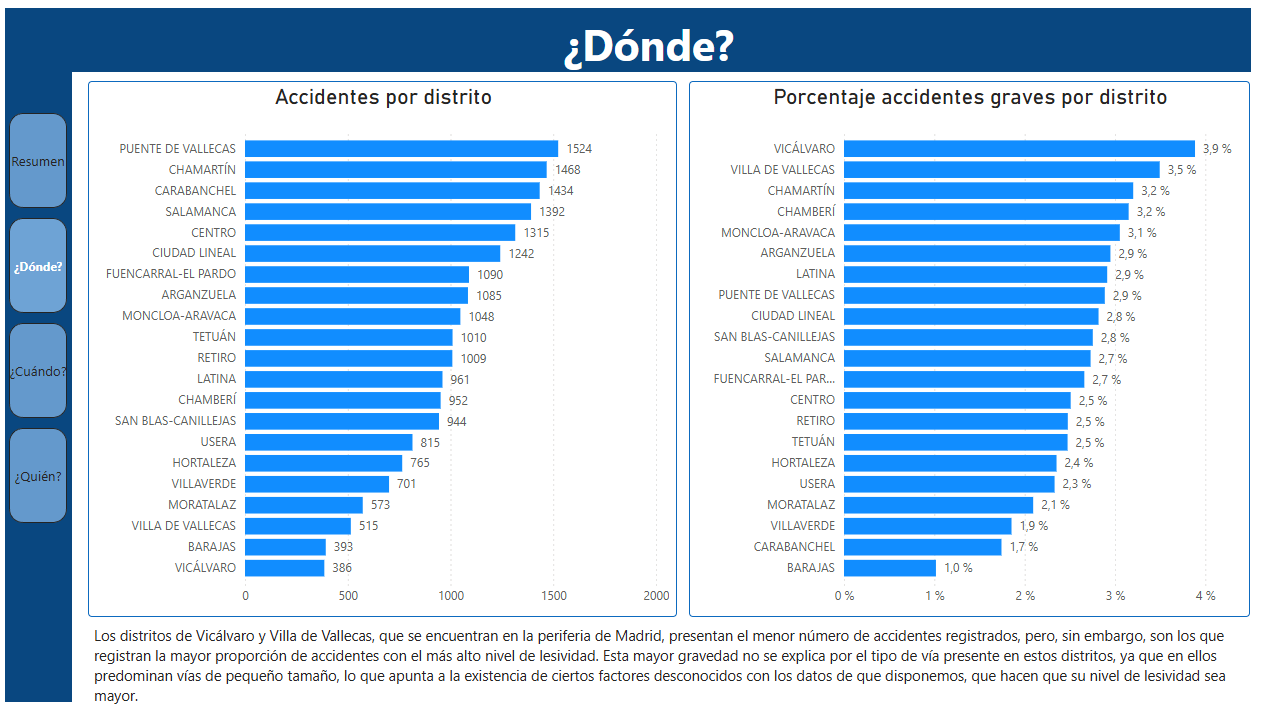

The page's visual inventory and layout, read from the dashboard file:
{"tool":"powerbi","page":{"name":"¿Dónde?","canvas":[1280,720],"ordinal":1},"visuals":[{"type":"clusteredBarChart","title":"Accidentes por distrito","fields":{"Category":["Accidentes.distrito"],"Y":["_Medidas.Total accidentes"]},"box":[99.3,85.7,588.3,536],"z":0},{"type":"clusteredBarChart","title":"Porcentaje accidentes graves por distrito","fields":{"Category":["Accidentes.distrito"],"Y":["_Medidas.Porcentaje accidentes graves"]},"box":[700.1,85.7,561.1,536],"z":1000},{"type":"shape","box":[16,13,67,694],"z":2000},{"type":"shape","box":[82.7,12.6,1178.8,64.2],"z":3000},{"type":"textbox","box":[100.3,624.8,1160.9,95.1],"z":5000},{"type":"textbox","box":[509.9,15.1,299,70.9],"z":5002},{"type":"pageNavigator","title":"Visión general","box":[20,118,58,412],"z":5003}]}

Visuals, with their boxes on the page's 1280x720 design canvas (x1, y1, x2, y2). These are canvas units, not pixel positions in the 1263x713 screenshot, which may show the page scaled, cropped or inside an application window:
"Accidentes por distrito" clusteredBarChart: box(99, 86, 688, 622)
"Porcentaje accidentes graves por distrito" clusteredBarChart: box(700, 86, 1261, 622)
shape: box(16, 13, 83, 707)
shape: box(83, 13, 1262, 77)
textbox: box(100, 625, 1261, 720)
textbox: box(510, 15, 809, 86)
"Visión general" pageNavigator: box(20, 118, 78, 530)
